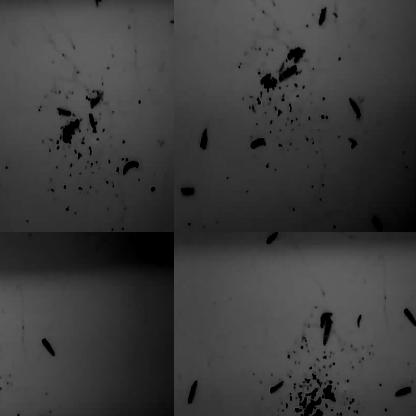PtecticusTenebrifer: (62, 119, 80, 137), (187, 379, 199, 406), (348, 96, 361, 120), (122, 159, 140, 176), (288, 45, 306, 62), (89, 92, 105, 109), (279, 66, 297, 81), (403, 307, 416, 327), (323, 316, 331, 348), (42, 337, 54, 357), (301, 400, 316, 416), (324, 386, 337, 404), (393, 386, 412, 398), (263, 232, 278, 247), (320, 310, 333, 327), (248, 137, 266, 149), (371, 214, 383, 232), (270, 380, 284, 394), (56, 106, 72, 118), (199, 126, 207, 150), (318, 7, 328, 26), (89, 114, 98, 132), (180, 186, 196, 196), (0, 257, 7, 277), (0, 346, 4, 377), (21, 0, 41, 6), (155, 0, 172, 7), (0, 340, 6, 357), (230, 0, 250, 5), (0, 210, 5, 229), (95, 0, 104, 10), (327, 0, 344, 5), (184, 232, 201, 237), (309, 411, 324, 416), (357, 312, 362, 326), (375, 0, 386, 6), (155, 232, 170, 236), (309, 0, 315, 8), (174, 0, 181, 6), (0, 410, 7, 416), (0, 232, 8, 237), (0, 0, 7, 5), (0, 342, 2, 356)
